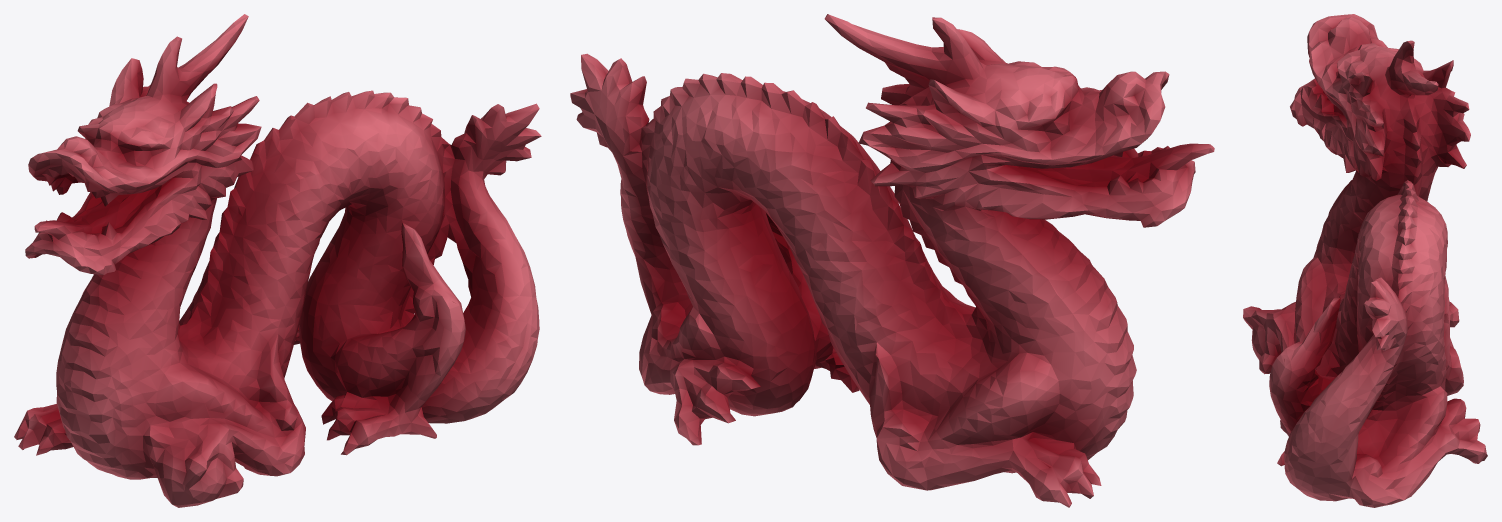
The model's file is dragon10KC.obj.
3 views of the same model, side by side, from view 1: azimuth 30°, elevation 25°; view 2: azimuth 150°, elevation 25°; view 3: azimuth 270°, elevation 25° (orthographic). The views are drawn at different scales.
Size of the model in its own units: 0.205 by 0.1443 by 0.0915.
